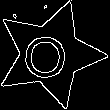O_N: (27, 28, 73, 80)
